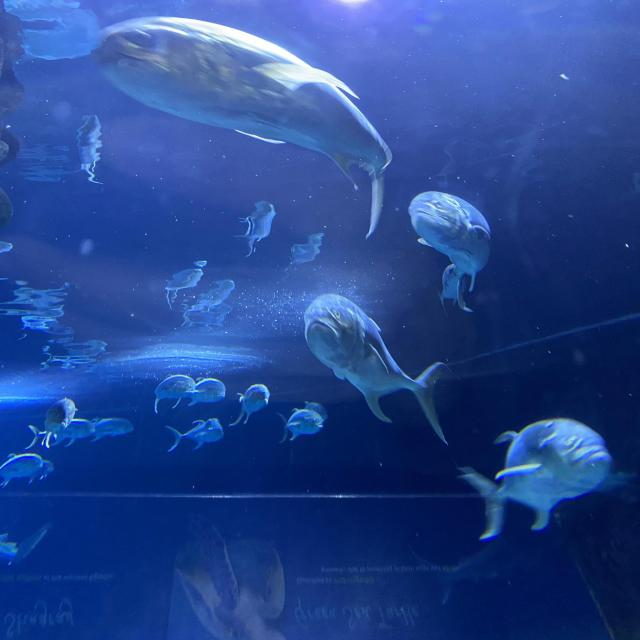fish: (94, 17, 393, 240), (304, 293, 448, 443), (459, 417, 612, 541), (408, 190, 492, 312), (167, 419, 224, 452), (154, 375, 198, 416), (27, 424, 92, 447), (279, 408, 324, 441), (234, 384, 270, 425), (0, 453, 41, 487), (45, 399, 74, 446), (79, 417, 133, 441), (0, 460, 55, 482), (189, 379, 225, 403)
